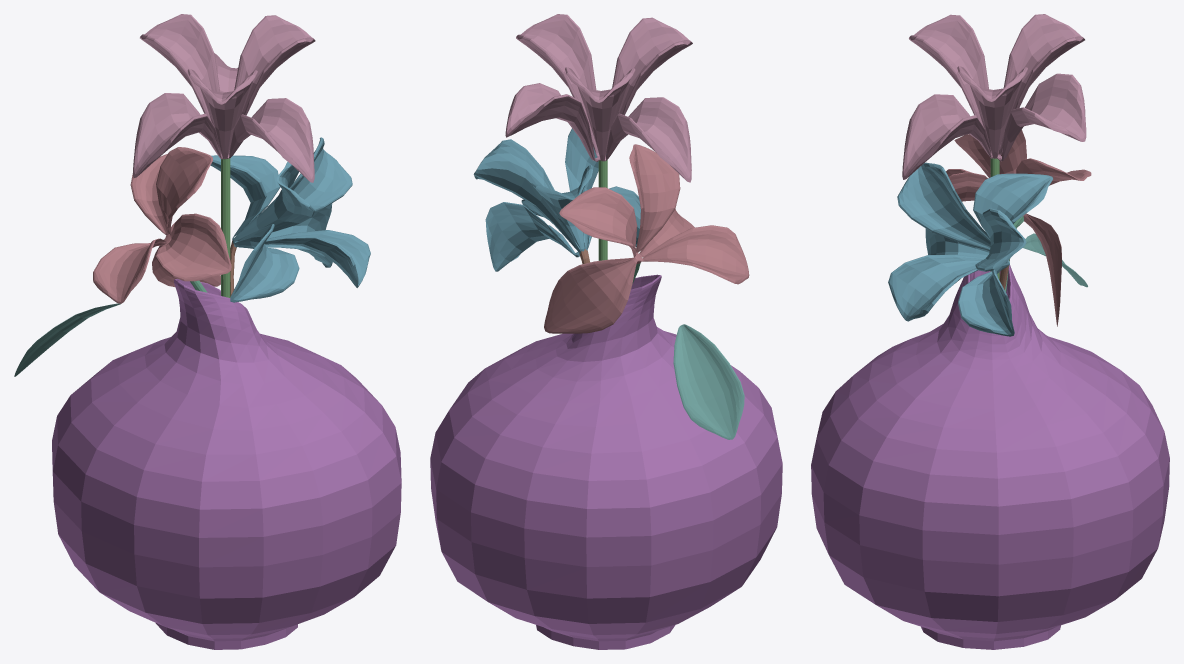
The model's file is 3b204e1c8fa3_seg.glb.
The picture shows the model from 3 angles, left to right: view 1: azimuth 30°, elevation 25°; view 2: azimuth 150°, elevation 25°; view 3: azimuth 270°, elevation 25°; orthographic projection.
Parts seen in each view (by area): view 1: p07, p05, p00, p03, p02, p06; view 2: p07, p03, p05, p00, p02; view 3: p07, p05, p00, p03.
Boxes of the visible parts, <box> form: p07: <box>52,278,401,649</box>; p05: <box>133,14,315,182</box>; p00: <box>210,137,370,302</box>; p03: <box>93,147,231,303</box>; p02: <box>14,303,120,376</box>; p06: <box>221,158,230,297</box>; p07: <box>430,274,782,649</box>; p03: <box>544,144,749,333</box>; p05: <box>505,14,692,182</box>; p00: <box>473,128,640,271</box>; p02: <box>673,324,744,439</box>; p07: <box>811,265,1169,649</box>; p05: <box>902,14,1086,179</box>; p00: <box>888,162,1052,336</box>; p03: <box>946,130,1091,326</box>.
Bounding box in the file's own units: 0.5816 × 1 × 0.5597.
